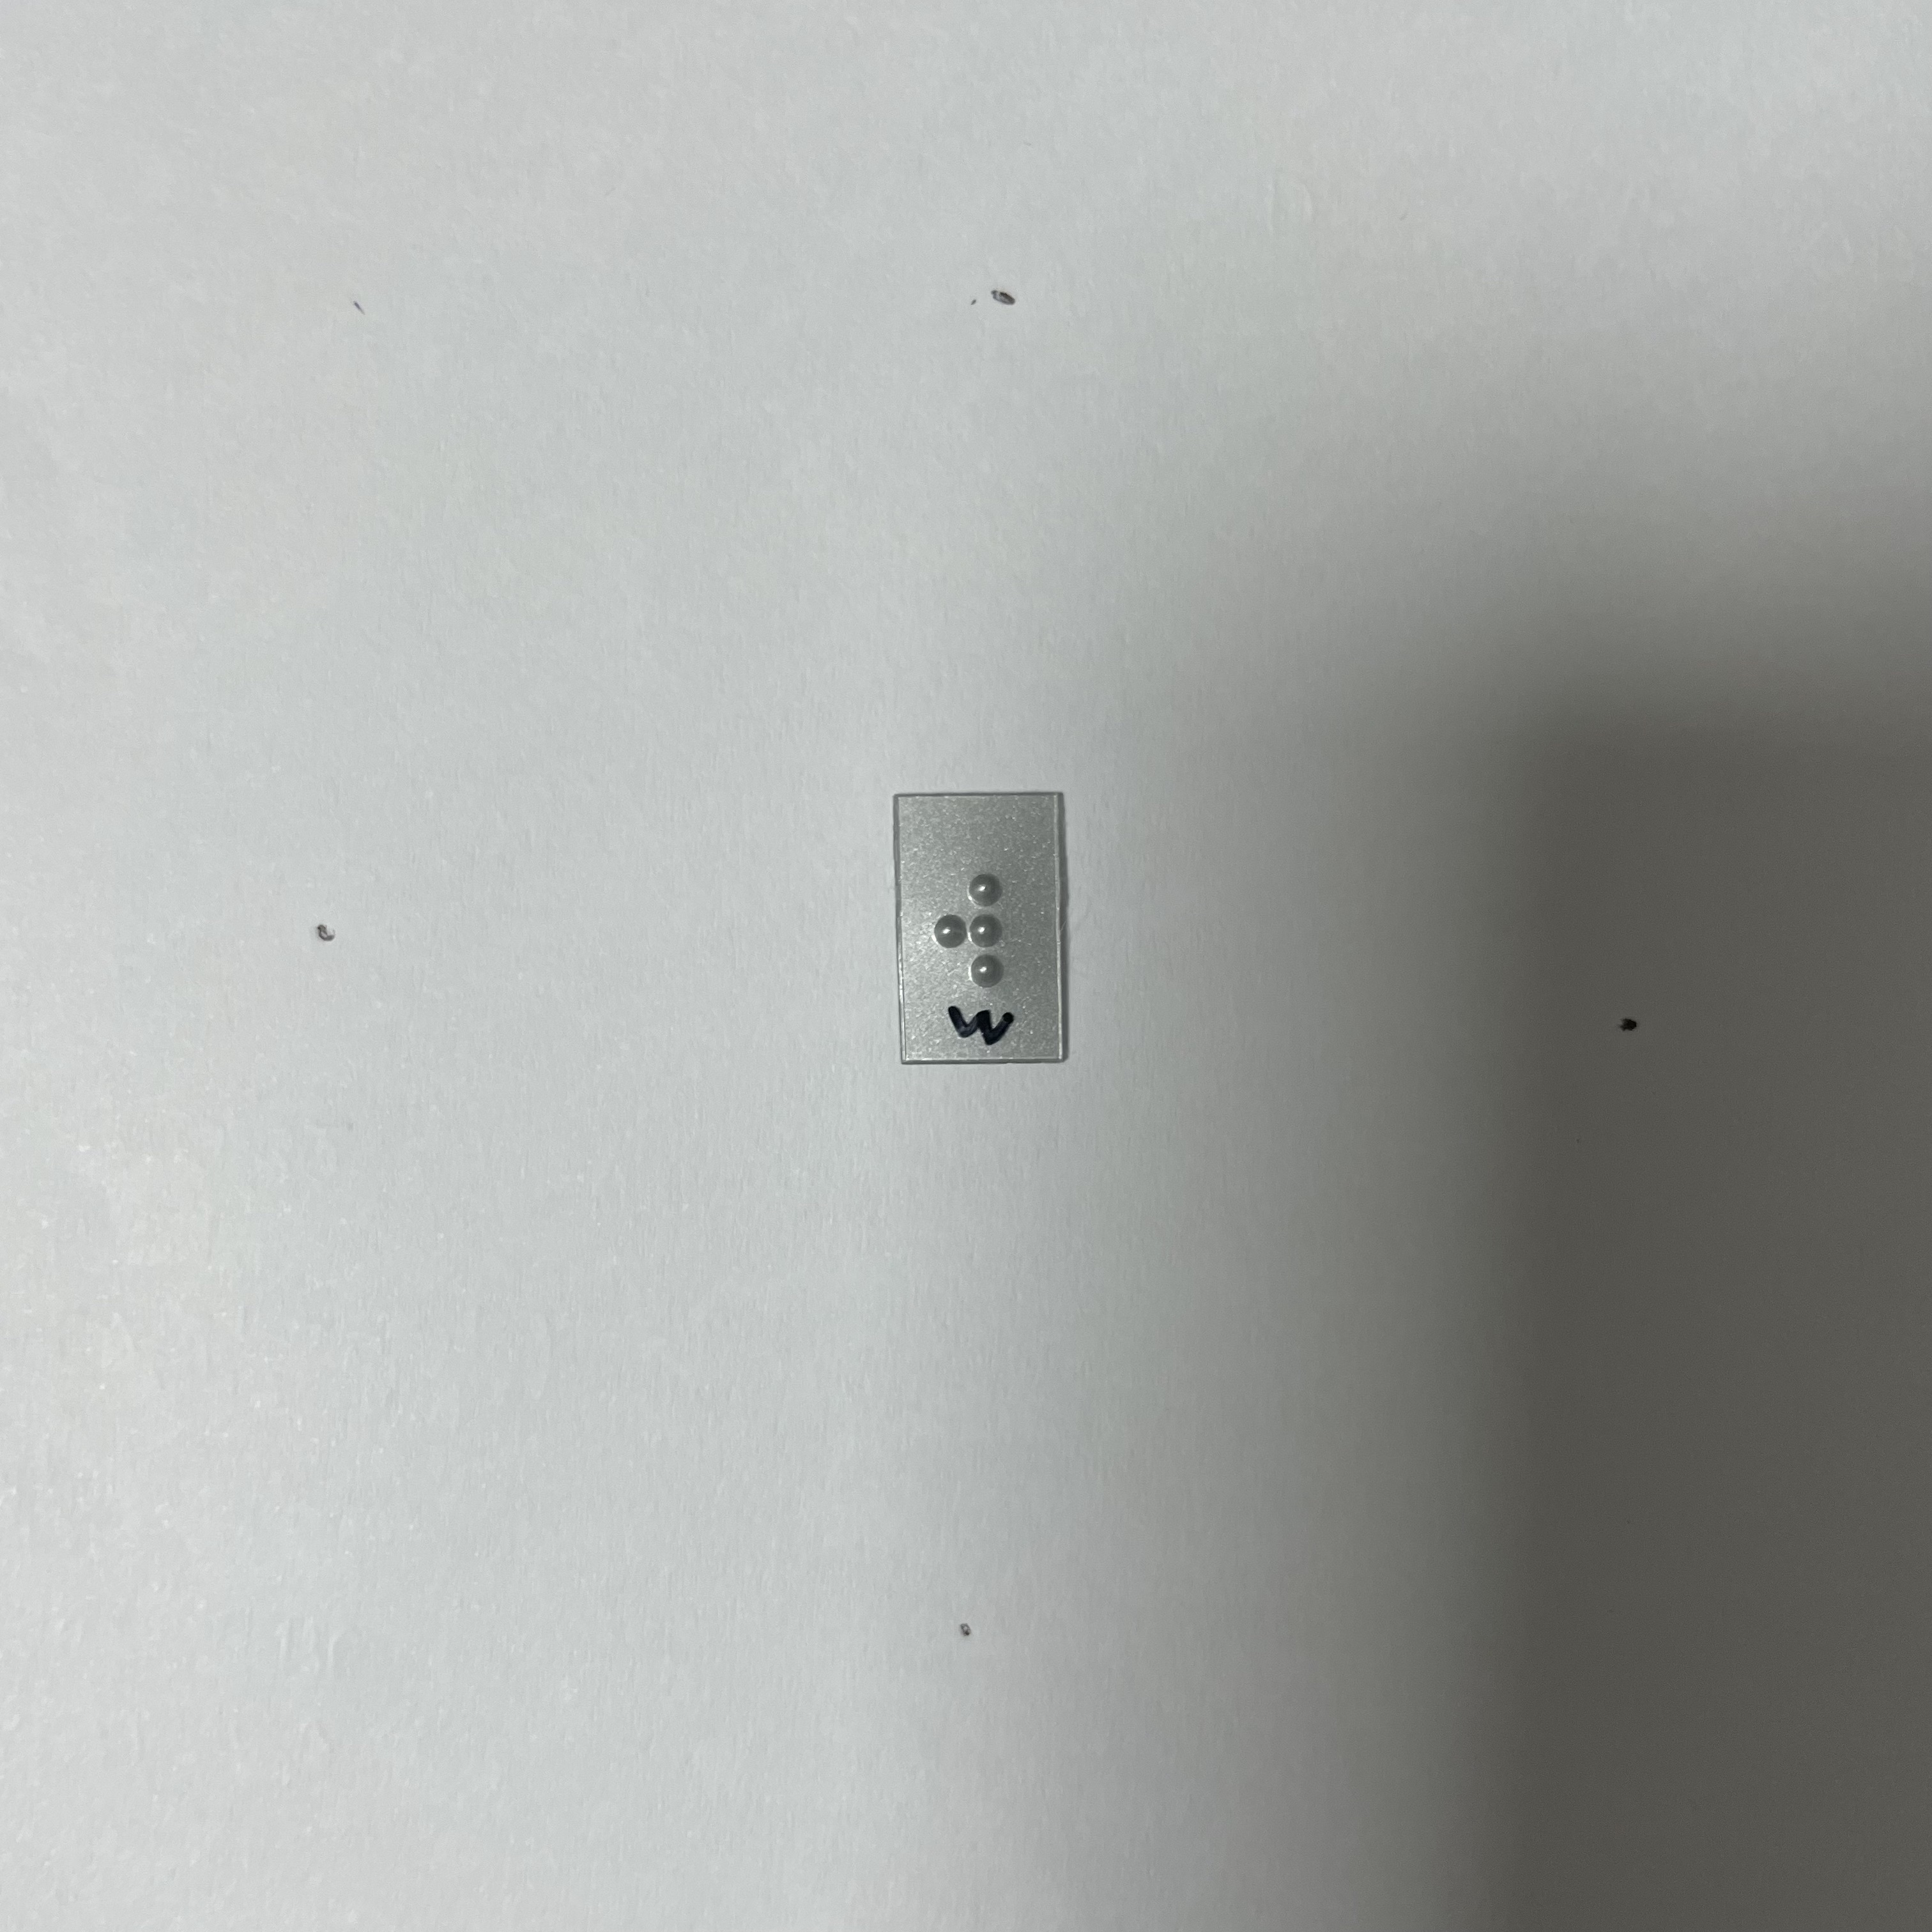w: (925, 864, 1029, 999)
